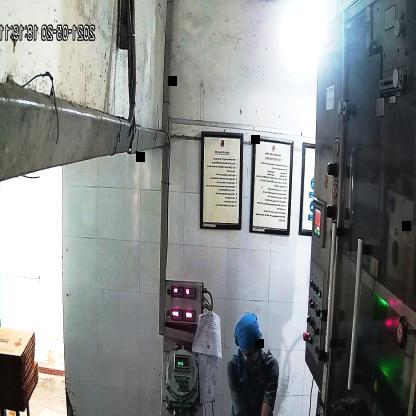goggles: (236, 339, 265, 366)
